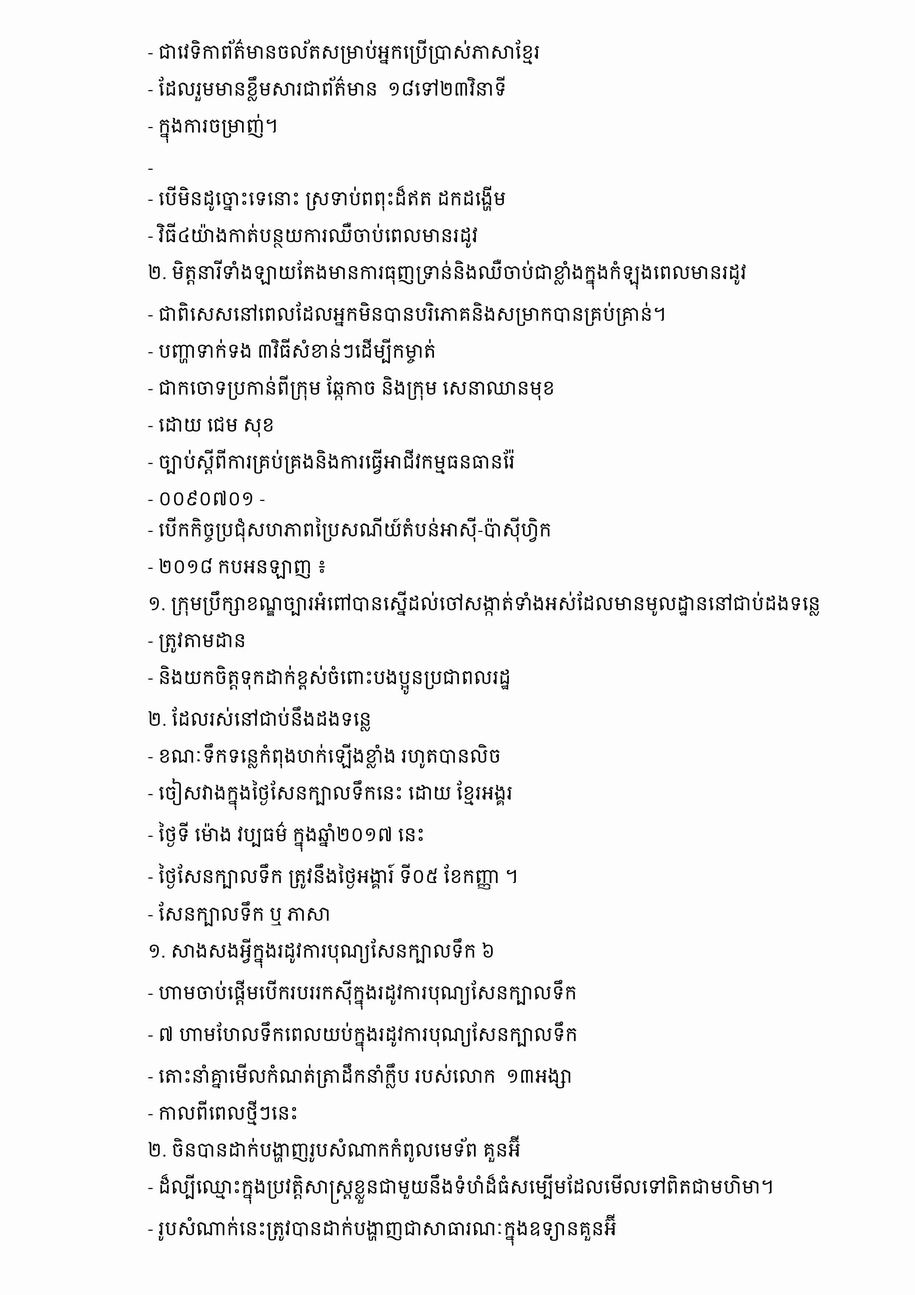text: (148, 1174, 778, 1204), (148, 259, 752, 290), (148, 591, 826, 616), (148, 1214, 622, 1246), (148, 1021, 583, 1052), (148, 302, 671, 327), (148, 980, 582, 1010), (148, 778, 518, 810), (148, 1063, 577, 1089), (148, 665, 516, 695), (148, 375, 560, 401), (148, 938, 500, 968), (148, 39, 545, 65), (148, 517, 557, 542), (148, 1135, 526, 1162), (148, 863, 523, 890), (148, 76, 511, 102), (148, 743, 506, 769), (148, 449, 520, 474), (148, 186, 511, 211), (148, 821, 429, 852), (148, 222, 483, 248), (148, 338, 441, 364), (148, 706, 377, 732), (148, 901, 336, 927), (148, 1100, 303, 1126), (148, 114, 283, 143), (148, 558, 332, 579), (148, 417, 279, 437), (148, 632, 251, 653), (148, 490, 270, 505), (148, 169, 158, 174)
